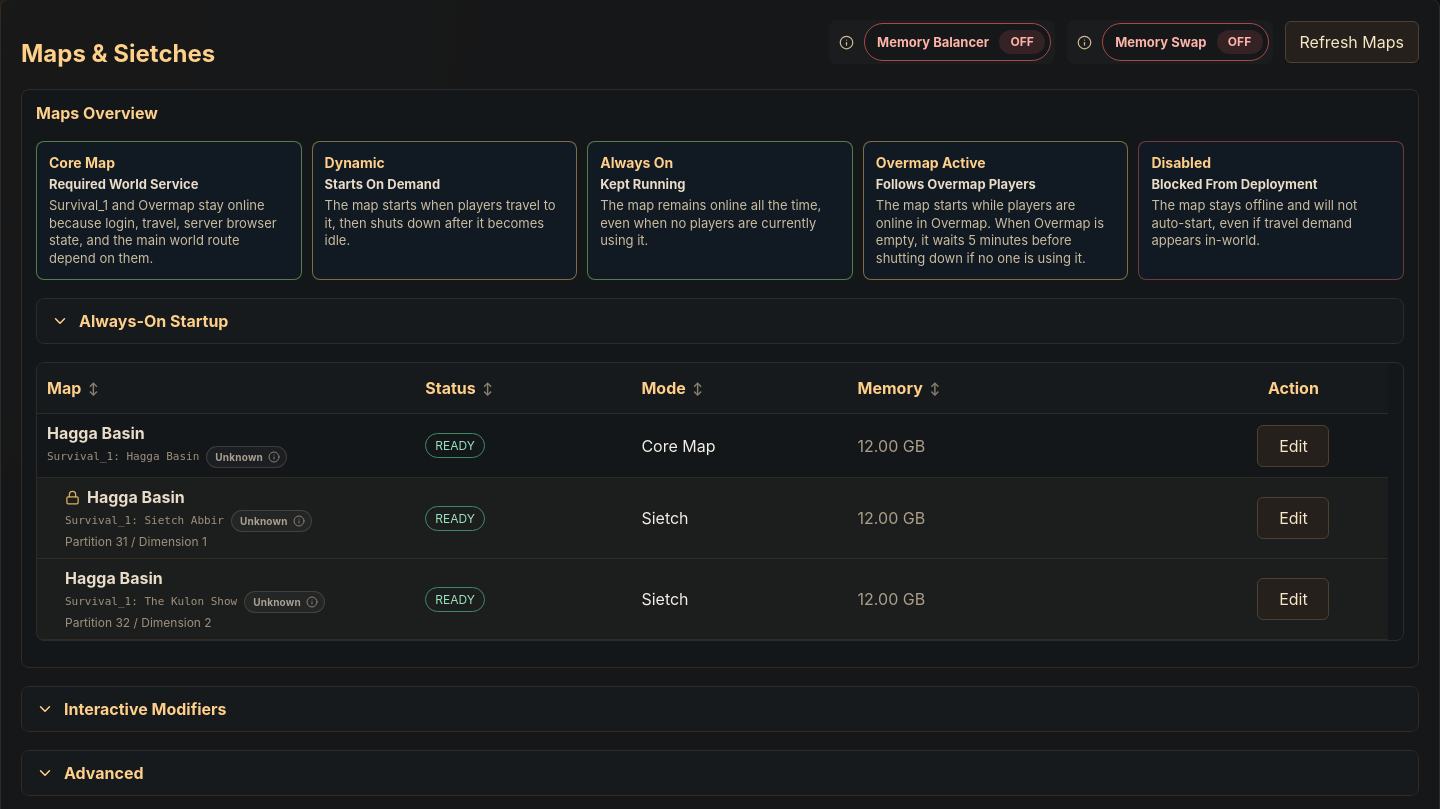
Scenario: MapsPanel per-target task buttons › leaves the other Sietch's buttons alone while one restarts
The width and height of the screenshot is (1440, 809).
Expected: the row with class "sietch-child-meta" is shown, [37,478,1388,559]
Click the button "Edit" in the row of "Survival_1: Sietch Abbir" at (1293, 518), box [1257,497,1329,539]
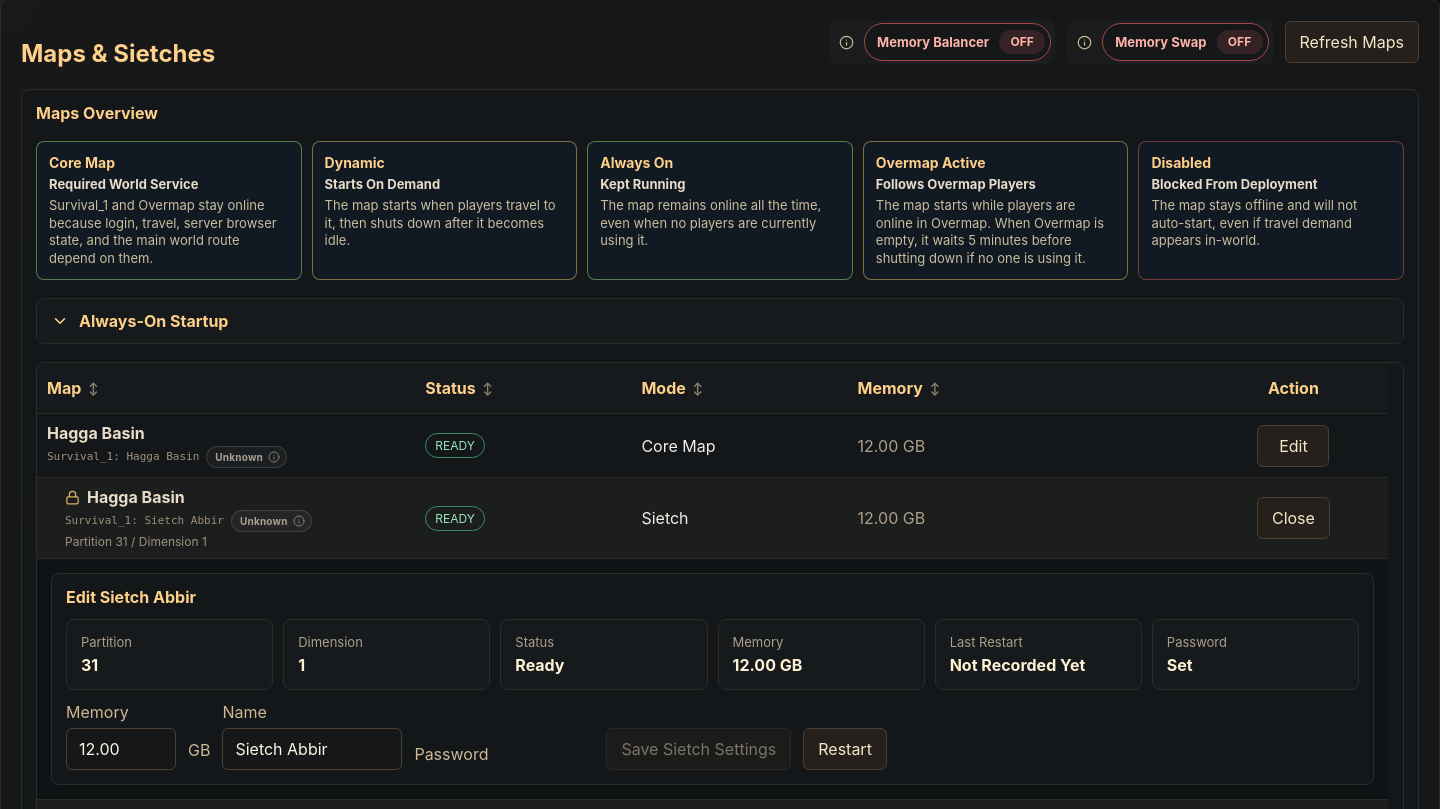
Click the button titled "Restart only this Sietch" at (845, 749), box [803,728,887,770]
(page scrolled)
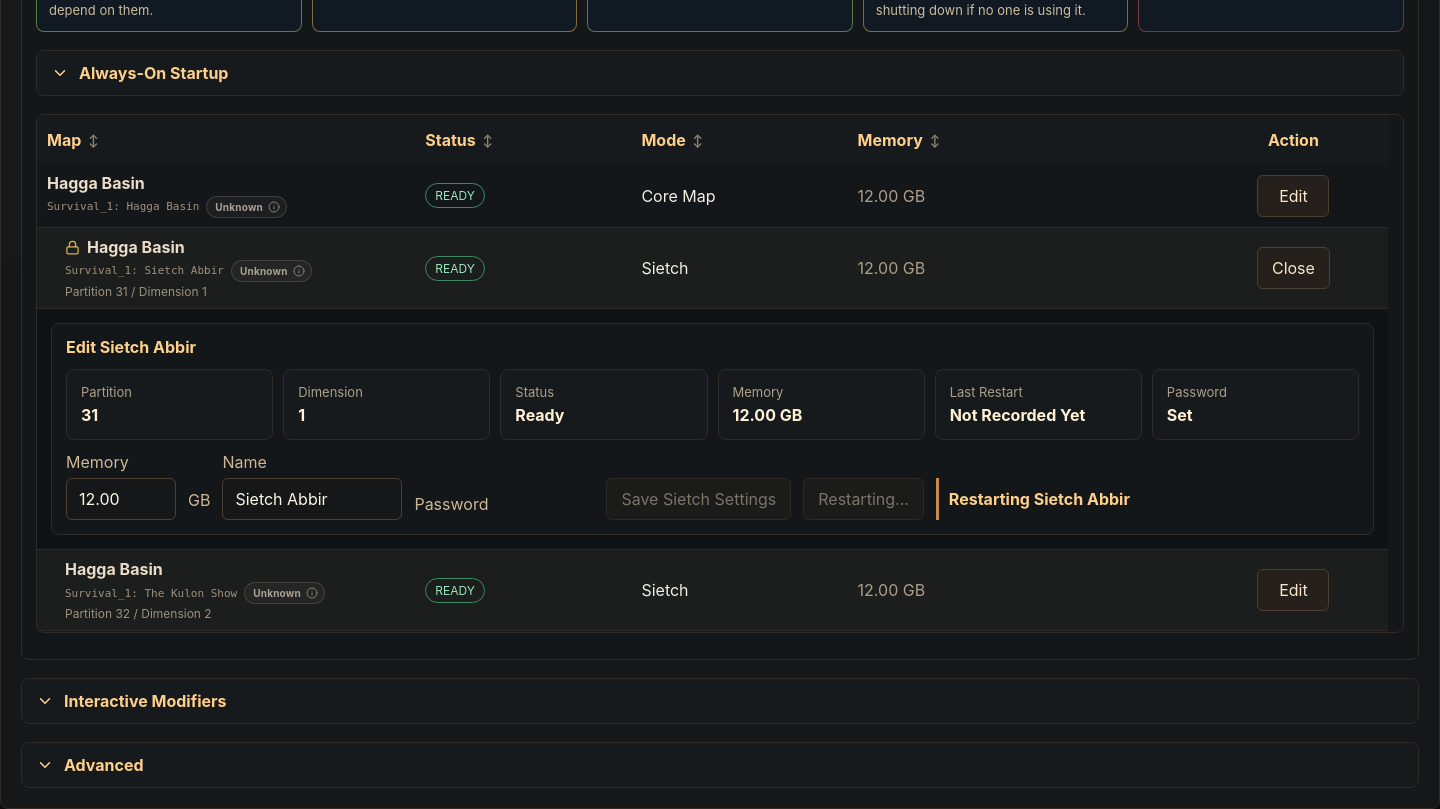
Expected: the row with class "sietch-child-meta" is shown, [37,550,1388,631]
Expected: the button titled "Restart only this Sietch" reads "Restarting...", [803,478,924,520]
Click the button "Edit" in the row of "Survival_1: The Kulon Show" at (1293, 590), box [1257,569,1329,611]
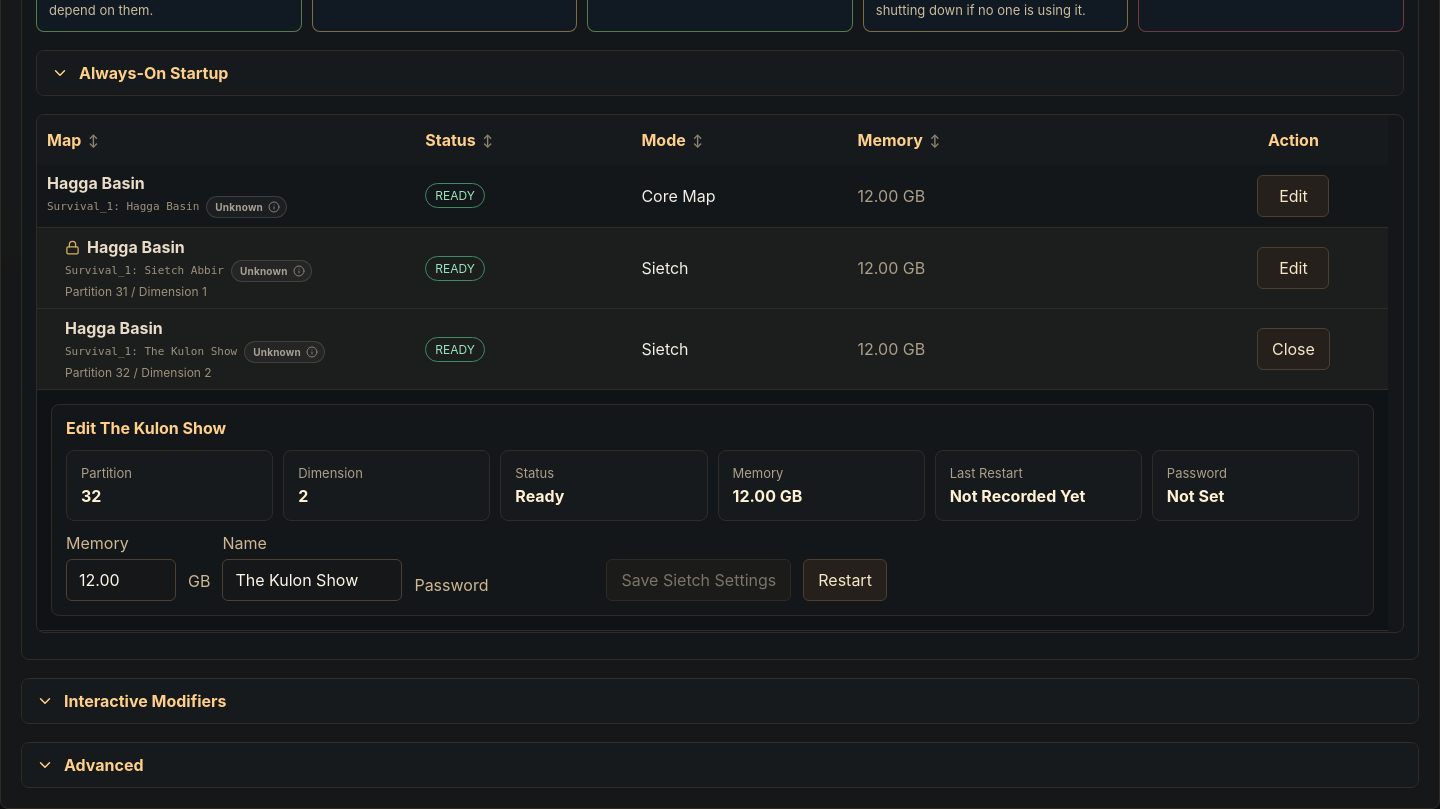
Expected: the button titled "Restart only this Sietch" is shown, [803,559,887,601]
Expected: the button titled "Restart only this Sietch" is enabled, [803,559,887,601]
